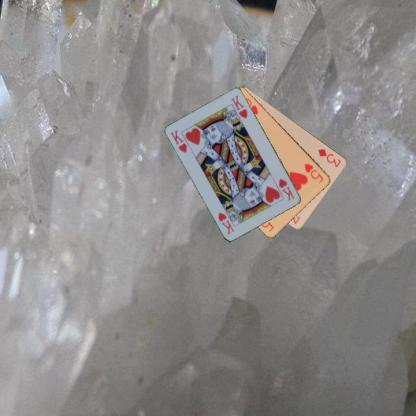3d: (315, 146, 342, 169)
5h: (302, 161, 325, 184)
Kh: (167, 127, 188, 154), (276, 176, 297, 202)
